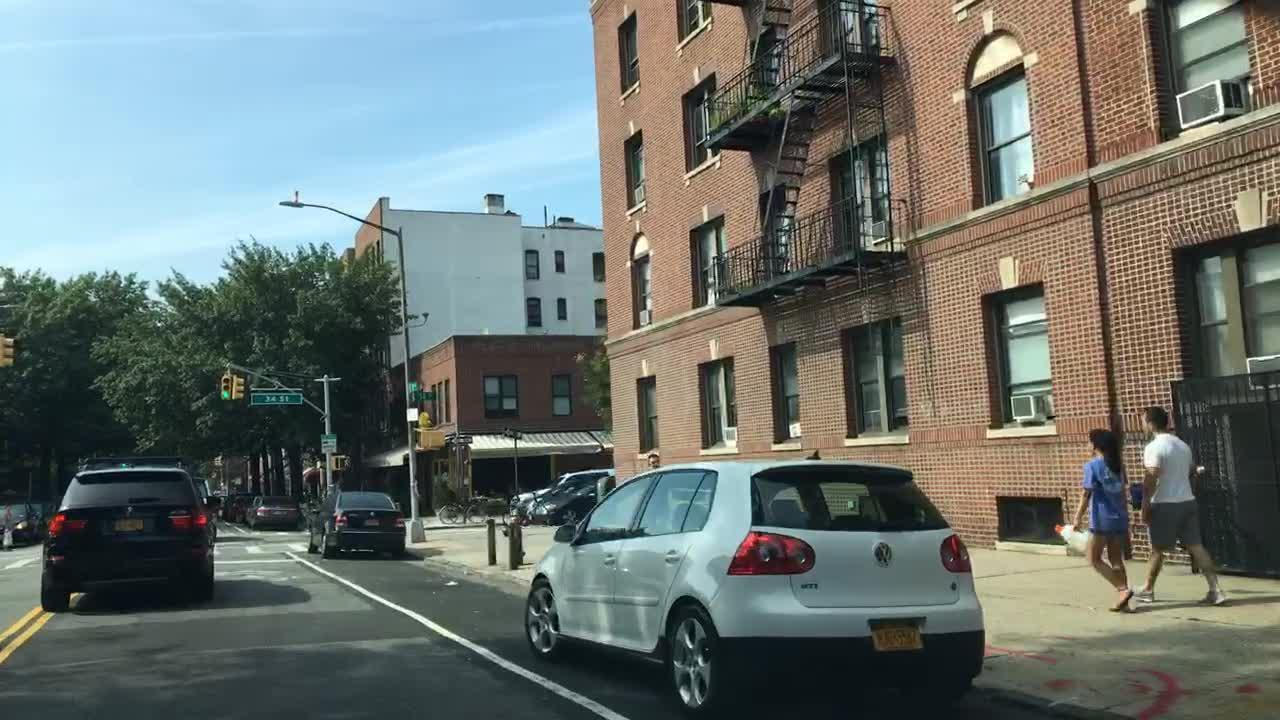Volkswagen: (873, 538, 896, 569)
